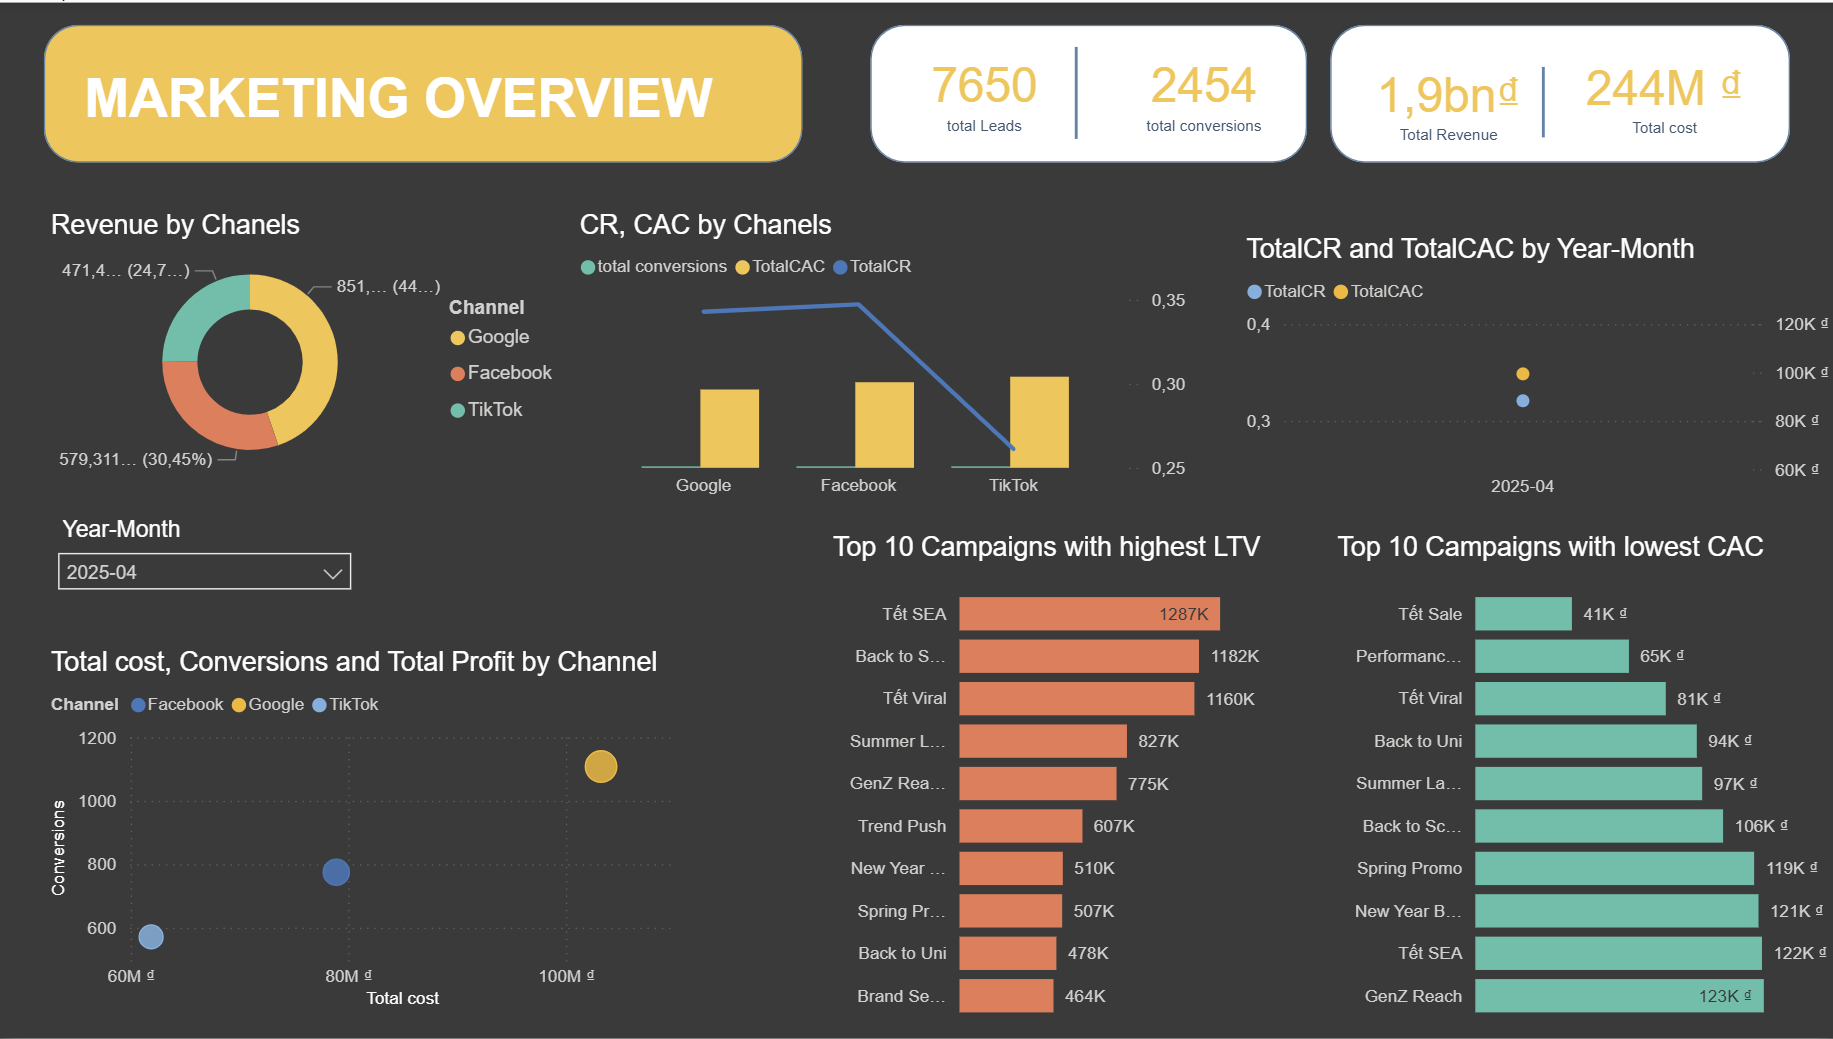

The page's visual inventory and layout, read from the dashboard file:
{"tool":"powerbi","page":{"name":"MKT Overview","canvas":[1280,720],"ordinal":0},"visuals":[{"type":"shape","box":[608,16,304,96],"z":0,"group":"g1"},{"type":"lineClusteredColumnComboChart","title":"CR, CAC by Chanels","fields":{"Category":["MKT Analyst Overview.Channel"],"Y2":["MKT Analyst Overview.TotalCR"],"Y":["MKT Analyst Overview.total conversions","MKT Analyst Overview.TotalCAC"]},"box":[400,208,416,192],"z":0},{"type":"card","fields":{"Values":["MKT Analyst Overview.total conversions"]},"box":[784,32,112,64],"z":1000,"group":"g1"},{"type":"card","fields":{"Values":["MKT Analyst Overview.Total Revenue"]},"box":[944,32,130.9,73.5],"z":1000,"group":"g3"},{"type":"barChart","title":"Top 10 Campaigns with lowest CAC","fields":{"Category":["MKT Analyst Overview.Campaign"],"Y":["MKT Analyst Overview.TotalCAC"]},"box":[880,416,352,304],"z":1000},{"type":"lineChart","fields":{"Y2":["MKT Analyst Overview.TotalCAC"],"Y":["MKT Analyst Overview.TotalCR"],"Category":["DateTable.Year-Month"]},"box":[864,224,400,176],"z":2000},{"type":"card","fields":{"Values":["MKT Analyst Overview.total Leads"]},"box":[624,32,128,64],"z":3000,"group":"g1"},{"type":"donutChart","title":"Revenue by Chanels","fields":{"Category":["MKT Analyst Overview.Channel"],"Y":["MKT Analyst Overview.Total Revenue"]},"box":[32,208,320,208],"z":3000},{"type":"scatterChart","fields":{"X":["MKT Analyst Overview.Total cost"],"Y":["MKT Analyst Overview.total conversions"],"Series":["MKT Analyst Overview.Channel"],"Size":["MKT Analyst Overview.Total Profit"]},"box":[32,448,464,256],"z":4000},{"type":"barChart","title":"Top 10 Campaigns with highest LTV","fields":{"Category":["MKT Analyst Overview.Campaign"],"Y":["MKT Analyst Overview.Total LTV"]},"box":[528,416,320,304],"z":5000},{"type":"group","id":"g1","title":"Group 2","box":[608,16,288,96],"z":6000},{"type":"shape","box":[928,16,320,96],"z":7000},{"type":"group","id":"g2","title":"Group 3","box":[944,32,288,64],"z":8000},{"type":"shape","box":[32,16,528,96],"z":9000},{"type":"textbox","box":[56,40,528,80],"z":10000},{"type":"slicer","fields":{"Values":["DateTable.Year-Month"]},"box":[720,128,528,48],"z":11000},{"type":"shape","box":[1048.7,44.3,52.4,49],"z":11001,"group":"g3"},{"type":"shape","box":[720,32,64,64],"z":15000,"group":"g1"},{"type":"card","fields":{"Values":["MKT Analyst Overview.Total cost"]},"box":[1088,32,144,64],"z":18500,"group":"g2"},{"type":"group","id":"g3","title":"Group 1","box":[944,32,144,64],"z":19000,"group":"g2"}]}

Visuals, with their boxes in screenshot pixels (x1, y1, x2, y2), scaled from the page's 1280x720 canvas onto the 1833x1039 screenshot:
shape: locate(871, 23, 1306, 162)
"CR, CAC by Chanels" lineClusteredColumnComboChart: locate(573, 300, 1169, 577)
card - MKT Analyst Overview.total conversions: locate(1123, 46, 1283, 139)
card - MKT Analyst Overview.Total Revenue: locate(1352, 46, 1539, 152)
"Top 10 Campaigns with lowest CAC" barChart: locate(1260, 600, 1764, 1038)
lineChart - MKT Analyst Overview.TotalCAC x MKT Analyst Overview.TotalCR: locate(1237, 323, 1810, 577)
card - MKT Analyst Overview.total Leads: locate(894, 46, 1077, 139)
"Revenue by Chanels" donutChart: locate(46, 300, 504, 600)
scatterChart - MKT Analyst Overview.Total cost x MKT Analyst Overview.total conversions: locate(46, 646, 710, 1016)
"Top 10 Campaigns with highest LTV" barChart: locate(756, 600, 1214, 1038)
"Group 2" group: locate(871, 23, 1283, 162)
shape: locate(1329, 23, 1787, 162)
"Group 3" group: locate(1352, 46, 1764, 139)
shape: locate(46, 23, 802, 162)
textbox: locate(80, 58, 836, 173)
slicer - DateTable.Year-Month: locate(1031, 185, 1787, 254)
shape: locate(1502, 64, 1577, 135)
shape: locate(1031, 46, 1123, 139)
card - MKT Analyst Overview.Total cost: locate(1558, 46, 1764, 139)
"Group 1" group: locate(1352, 46, 1558, 139)
